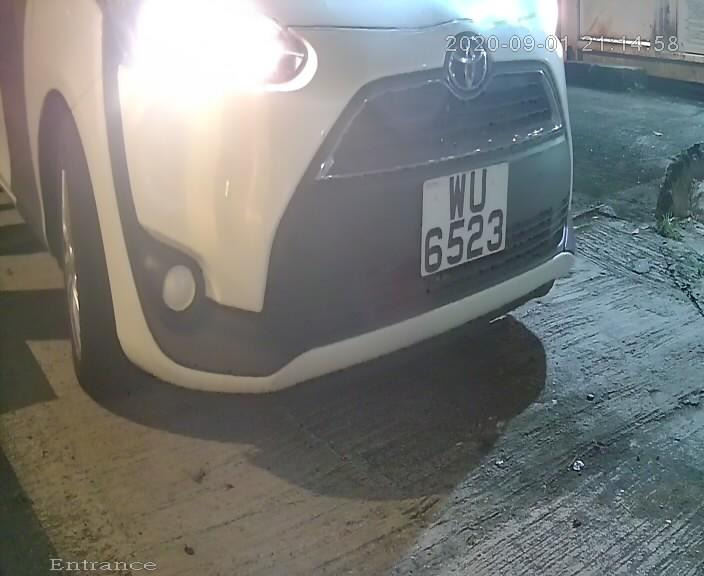License Plate: (415, 145, 513, 286)
